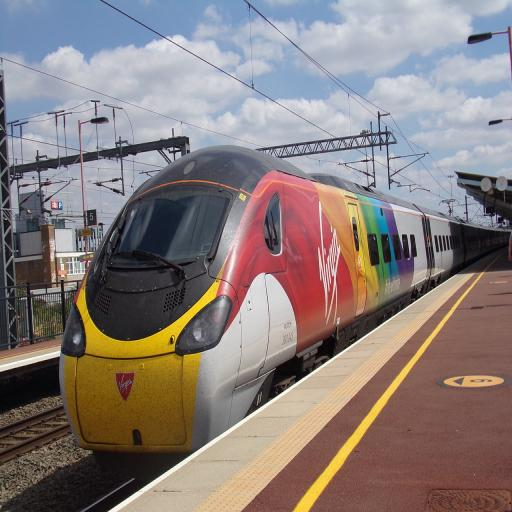platform_edge: (111, 375, 379, 512), (366, 282, 465, 348)
